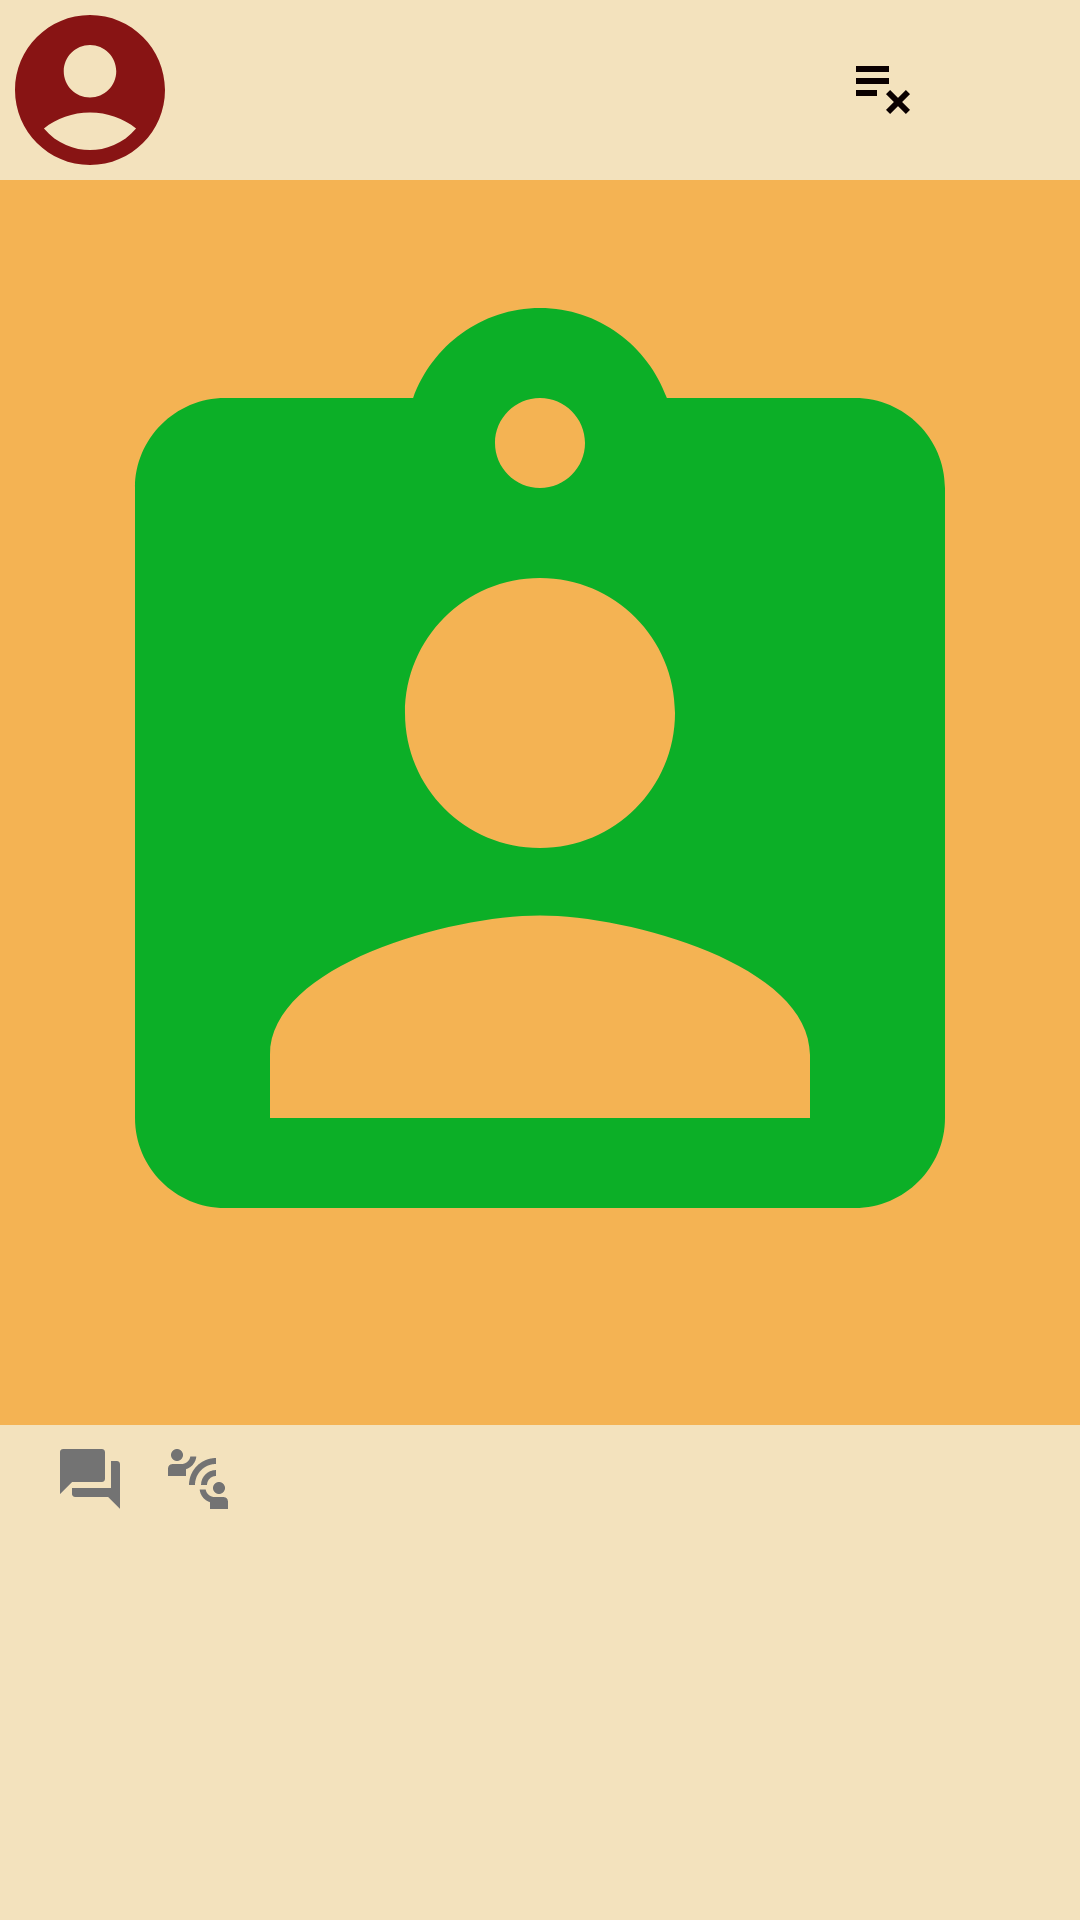

Icons on this 1080px x 1920px Android screen, each with the point to tap as point (x, y):
comment: point (90, 1479)
profilepic: point (90, 90)
